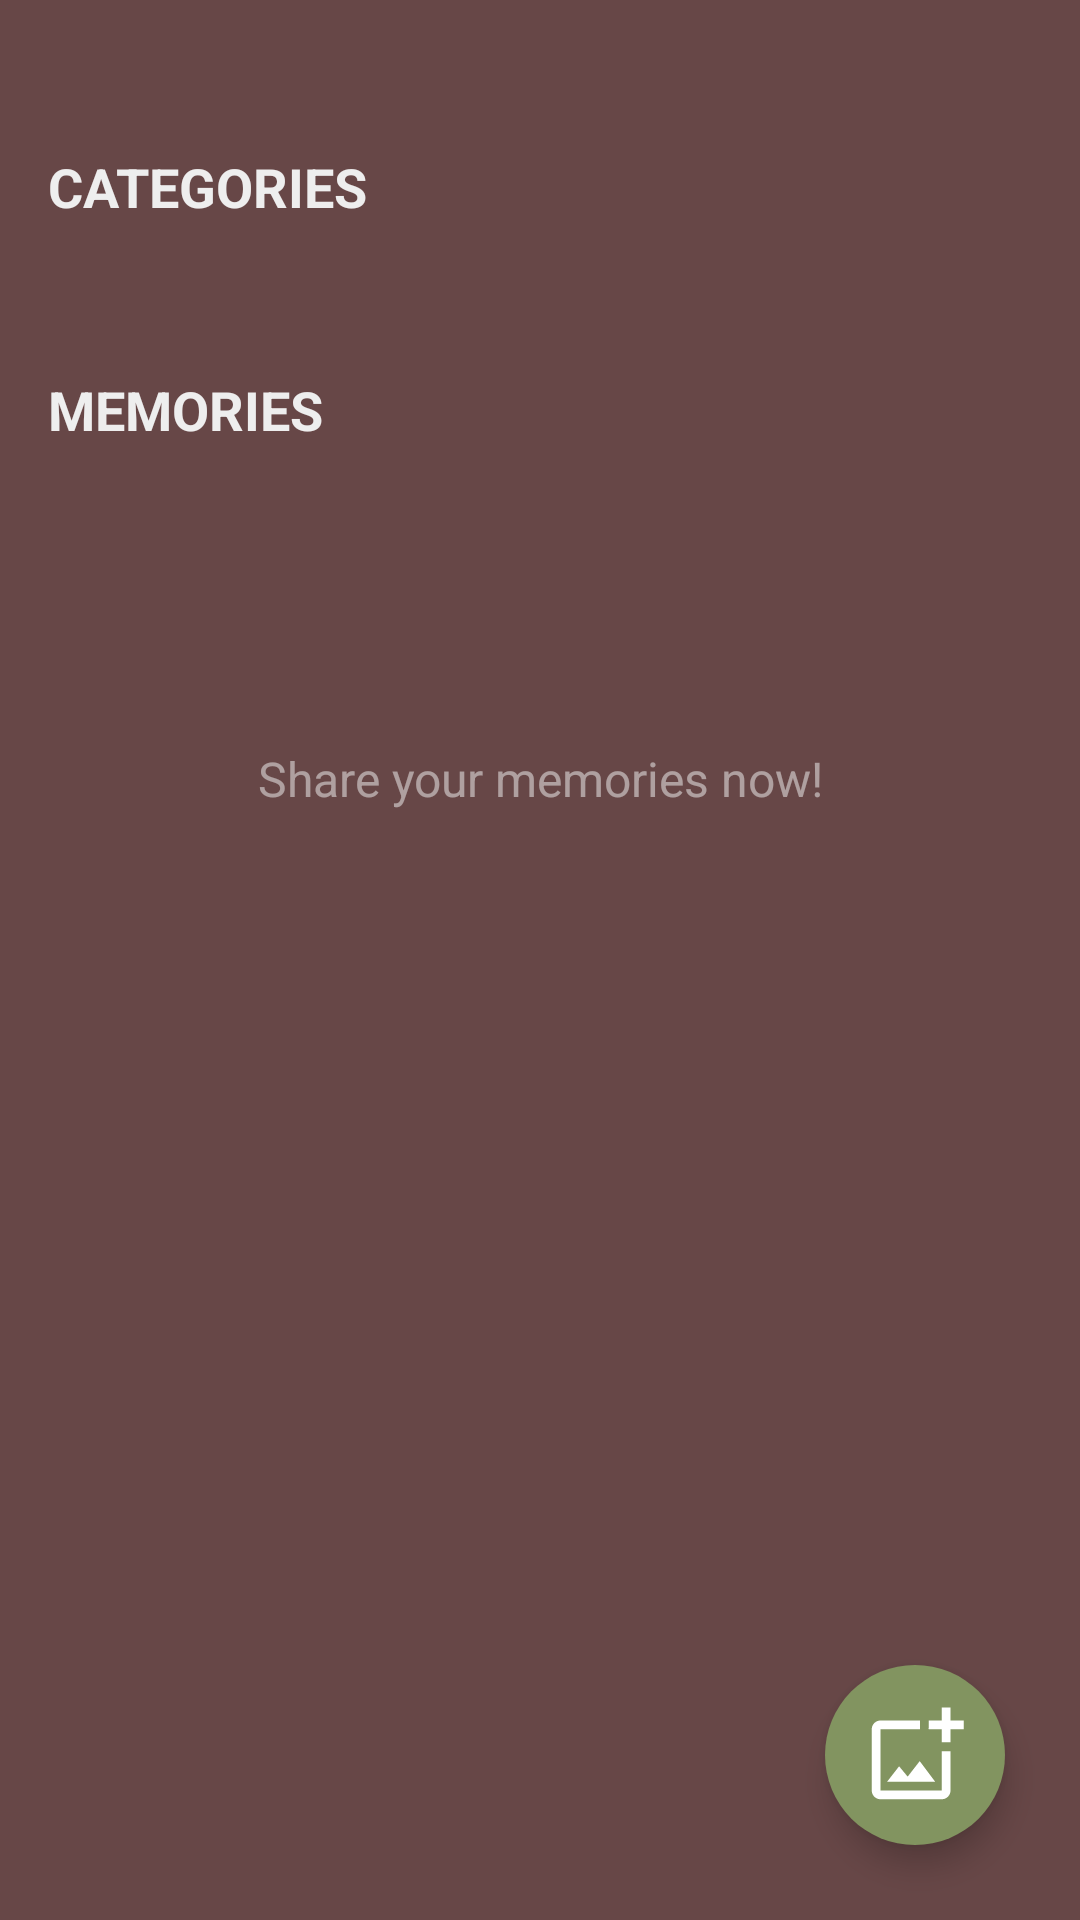

Locate icon controls on the screen. Image size 1080 × 1920, boxes as bbox(x1, y1, x2, y2).
Pick Memory: bbox(825, 1665, 1005, 1845)
